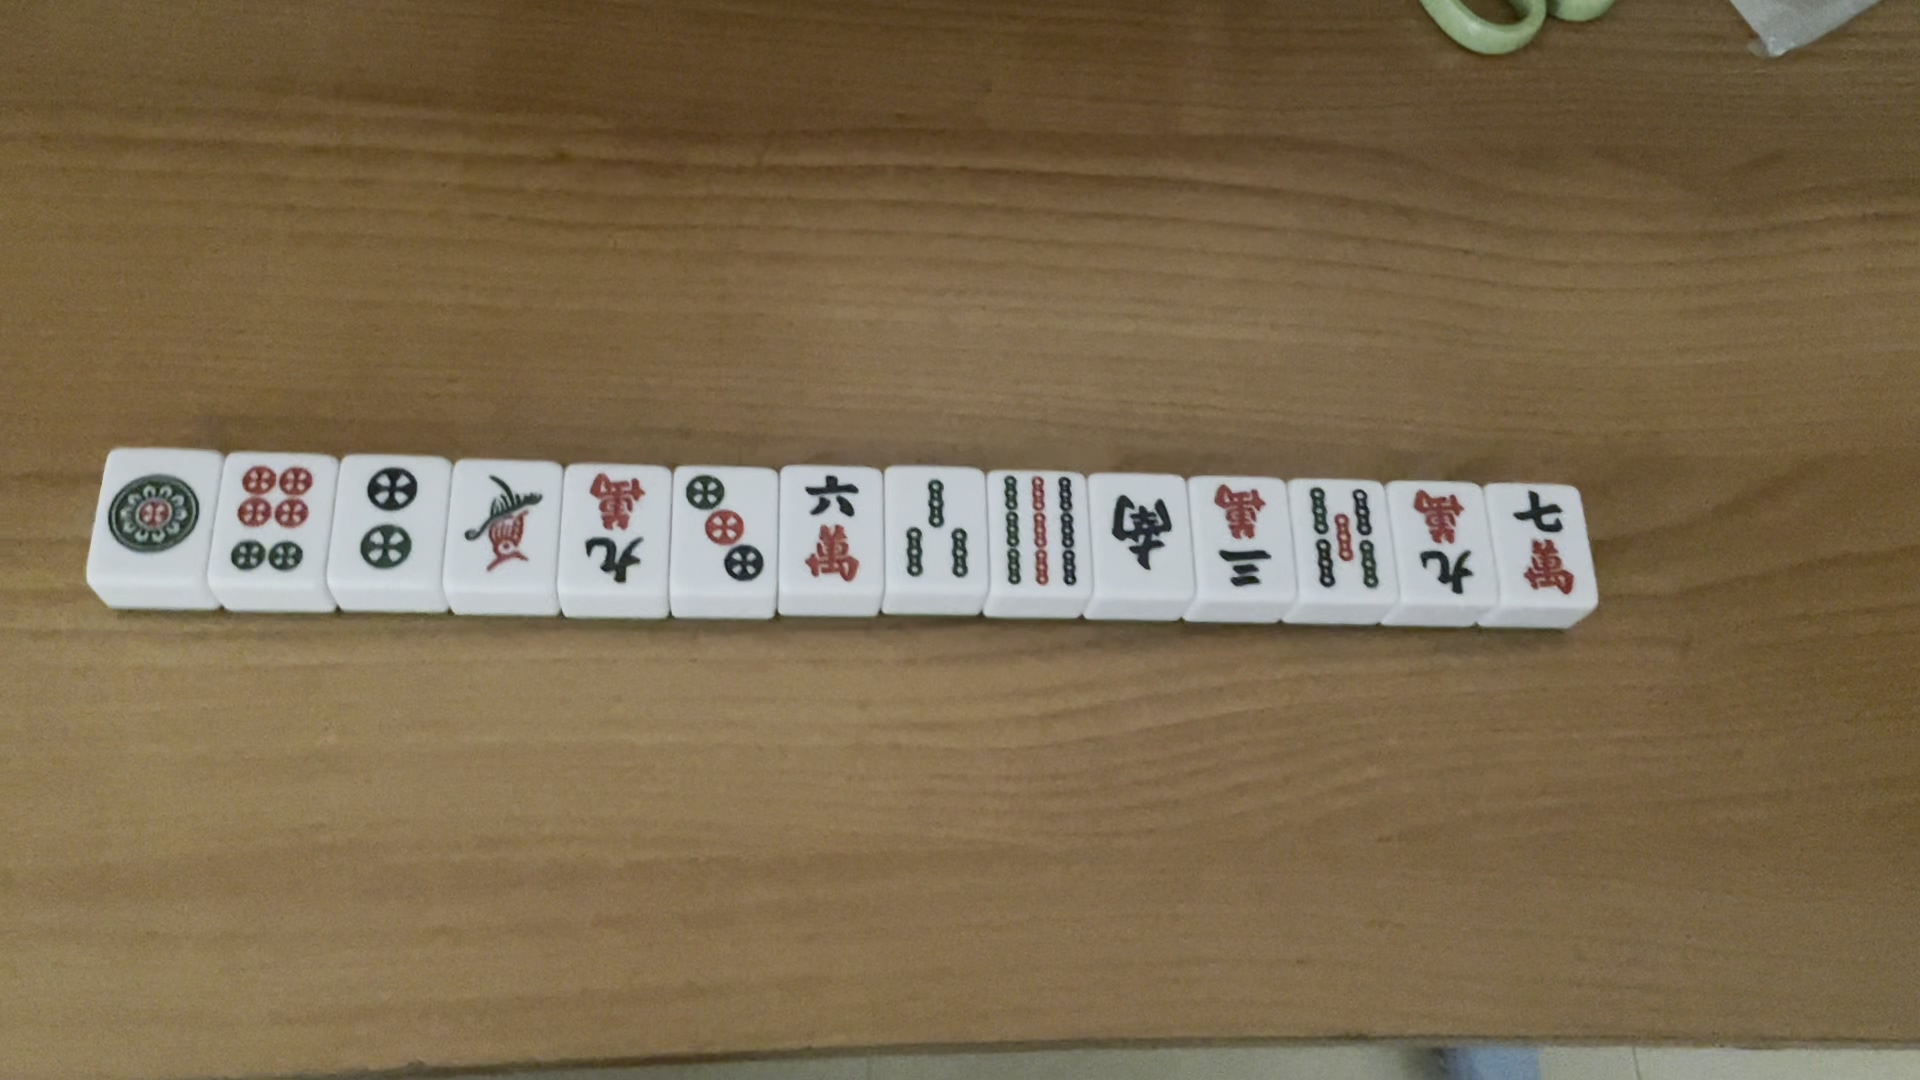b-1: (452, 467, 549, 574)
b-3: (893, 479, 977, 595)
b-5: (1300, 487, 1385, 601)
b-9: (1002, 472, 1091, 595)
c-3: (1200, 480, 1274, 596)
c-6: (790, 465, 868, 583)
c-7: (1513, 488, 1582, 615)
c-9: (583, 469, 662, 595), (1402, 487, 1477, 603)
d-1: (103, 462, 206, 568)
d-2: (351, 469, 422, 585)
d-3: (687, 464, 770, 589)
d-6: (225, 463, 316, 576)
honors-south: (1093, 475, 1182, 585)
